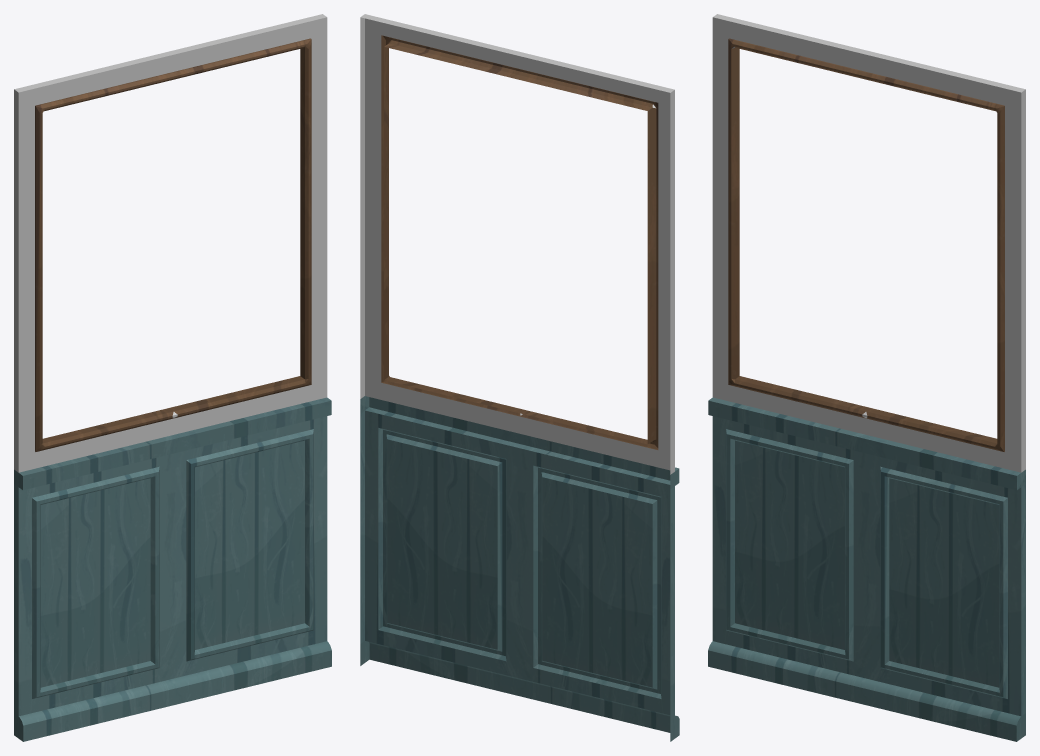
The model's file is Fancy Window - 4x2.fbx.
The picture shows the model from 3 angles, left to right: view 1: azimuth 30°, elevation 25°; view 2: azimuth 150°, elevation 25°; view 3: azimuth 330°, elevation 25°; orthographic projection.
Visible parts, largest first — view 1: Fancy Wall - Window 4x2; view 2: Fancy Wall - Window 4x2; view 3: Fancy Wall - Window 4x2.
Part boxes in pixels (x1,y1,x2,y2): Fancy Wall - Window 4x2: (14,14,331,741); Fancy Wall - Window 4x2: (360,14,679,741); Fancy Wall - Window 4x2: (708,14,1025,741).
Size of the model in its own units: 78.74 by 157 by 4.02.
